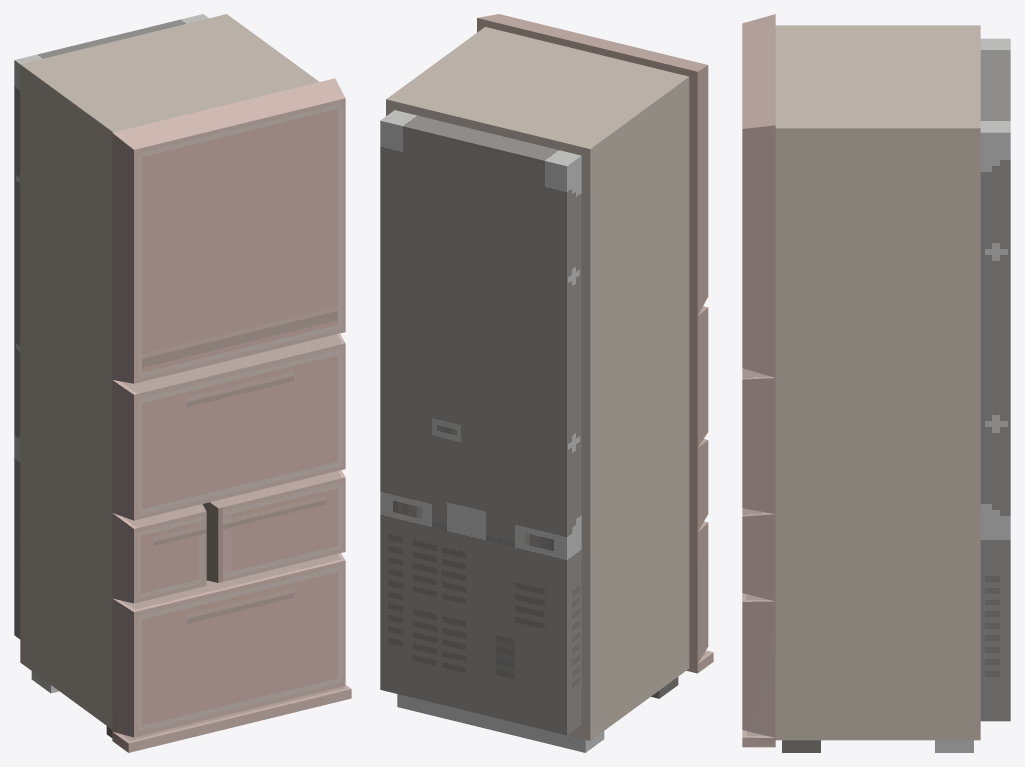
Rendered from 037a_Deluxe_Fridge.glb.
3 views of the same model, side by side, from view 1: azimuth 30°, elevation 25°; view 2: azimuth 150°, elevation 25°; view 3: azimuth 270°, elevation 25° (orthographic). The views are drawn at different scales.
Parts seen in each view (by area): view 1: part_0; view 2: part_0; view 3: part_0.
Part boxes in pixels (left/top/right/bottom): part_0: left=14, top=14, right=351, bottom=752; part_0: left=380, top=14, right=713, bottom=752; part_0: left=742, top=14, right=1010, bottom=752.
Bounding box in the file's own units: 0.675 × 1.8 × 0.6881.
Materials: 1 (1 with a texture image).
